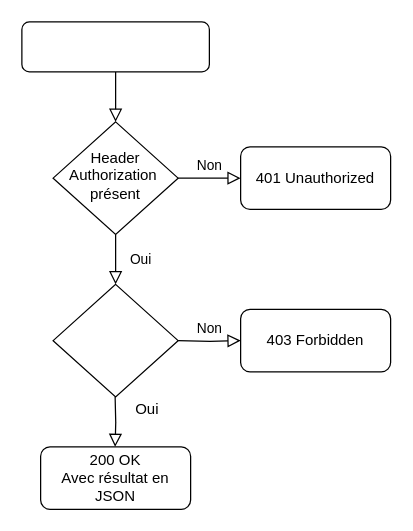
Some shapes in this 413 by 531 pixel diagram are drawn without their labels. The shapes that lost their labels are listed below. From the top down, each one's centre as x and y in pixels, then its label:
the point at 115,46: GET api/v1/appoitments
the point at 115,340: Utilisateur existant
